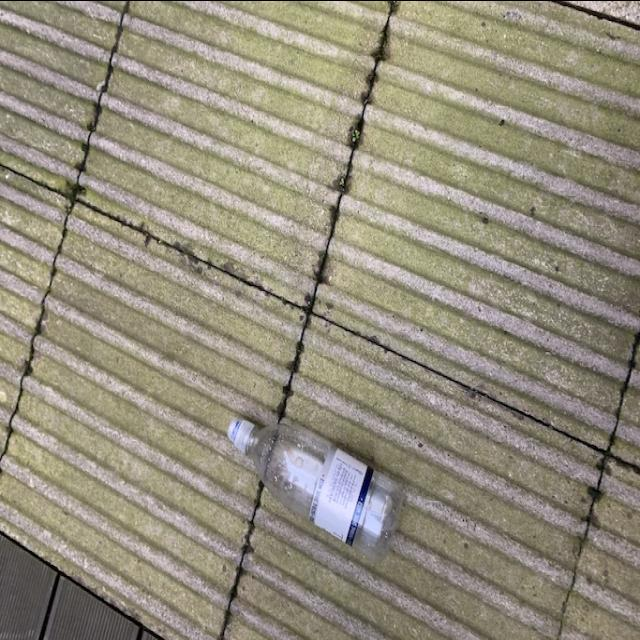litter: (224, 410, 404, 554)
